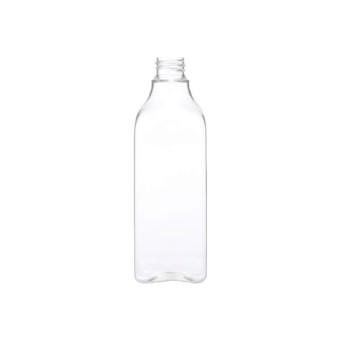plastic_bottle: (129, 51, 215, 291)
